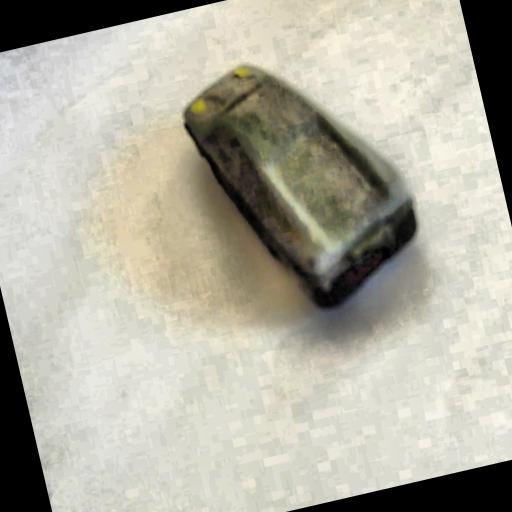normal_car: (156, 20, 446, 346)
